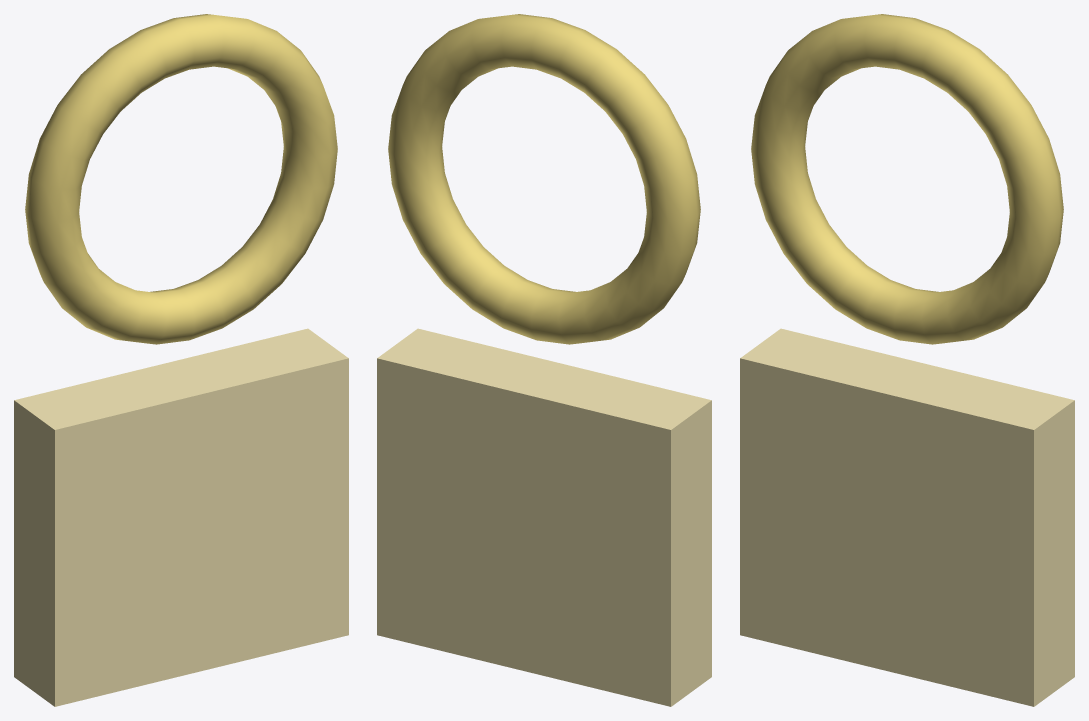
The model's file is VM-DAM-SH40640861.glb.
The picture shows the model from 3 angles, left to right: view 1: azimuth 30°, elevation 25°; view 2: azimuth 150°, elevation 25°; view 3: azimuth 330°, elevation 25°; orthographic projection.
Visible parts, largest first — view 1: Llavero Electrónico Acura; view 2: Llavero Electrónico Acura; view 3: Llavero Electrónico Acura.
Part boxes in pixels (<box>): Llavero Electrónico Acura: <box>14,14,348,706</box>; Llavero Electrónico Acura: <box>377,14,711,706</box>; Llavero Electrónico Acura: <box>740,14,1074,706</box>.
Bounding box in the file's own units: 0.0536 × 0.1066 × 0.0124.
